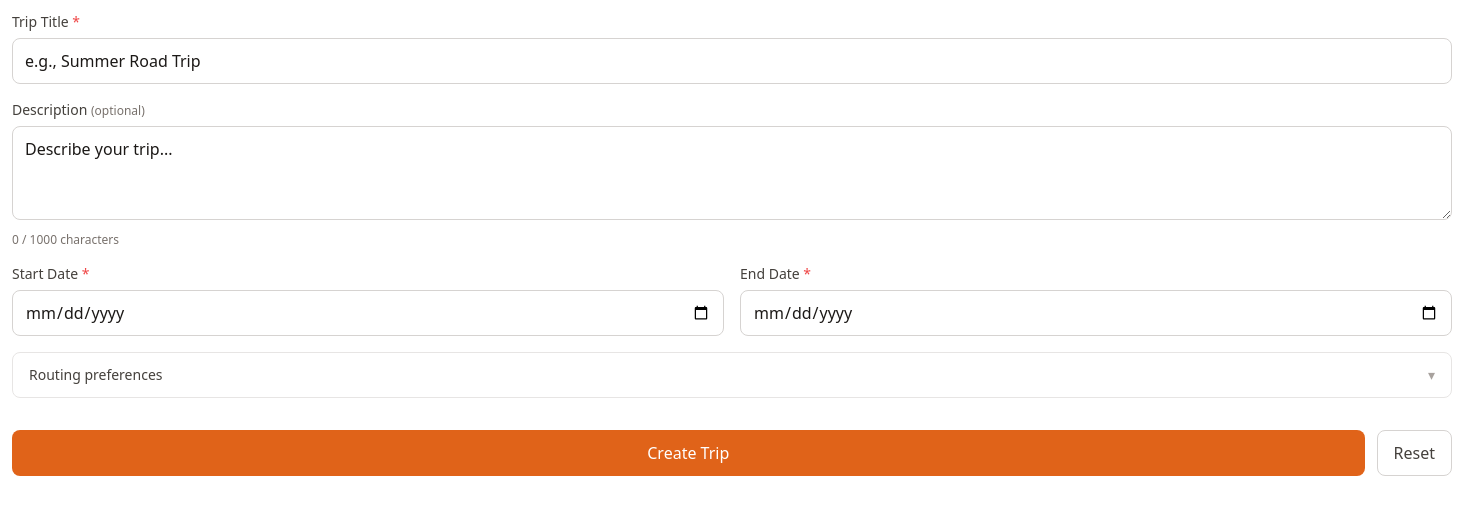
Test: TripForm Component › Client-side Validation › should show error when end date is before start date
The width and height of the screenshot is (1464, 519).
Type "Test Trip" into the field labelled "Trip Title *".
click(732, 61); type("Test Trip")  # box [12,38,1452,84]
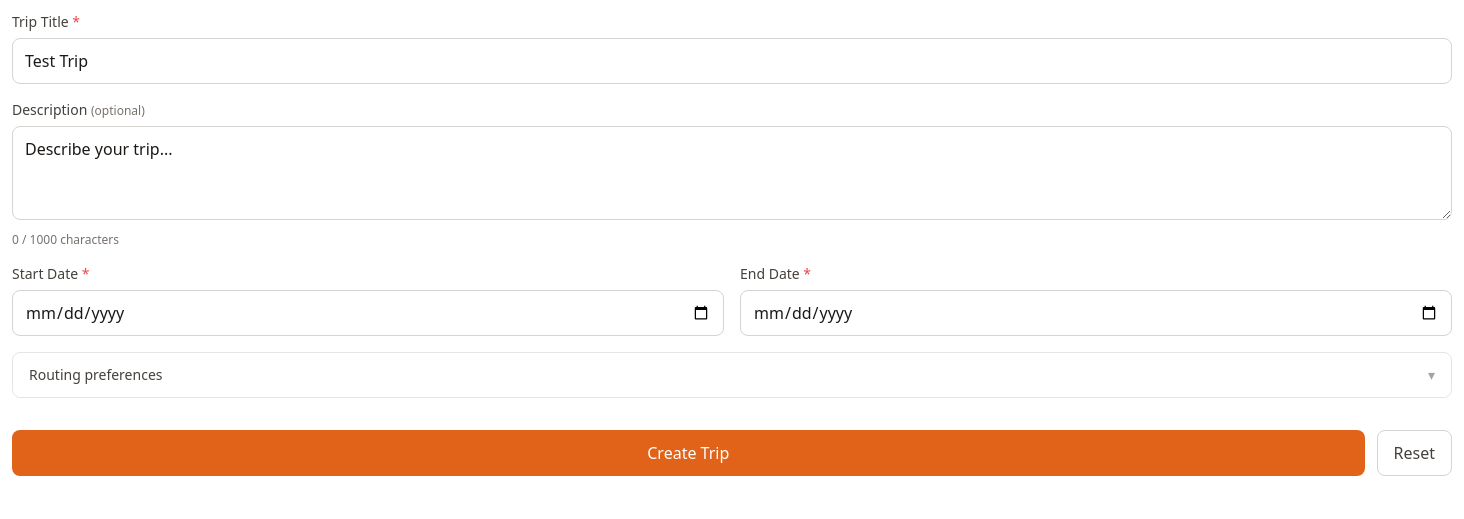
Type "2026-06-15" into the date field labelled "Start Date *".
click(368, 313); type("2026-06-15")  # box [12,290,724,336]
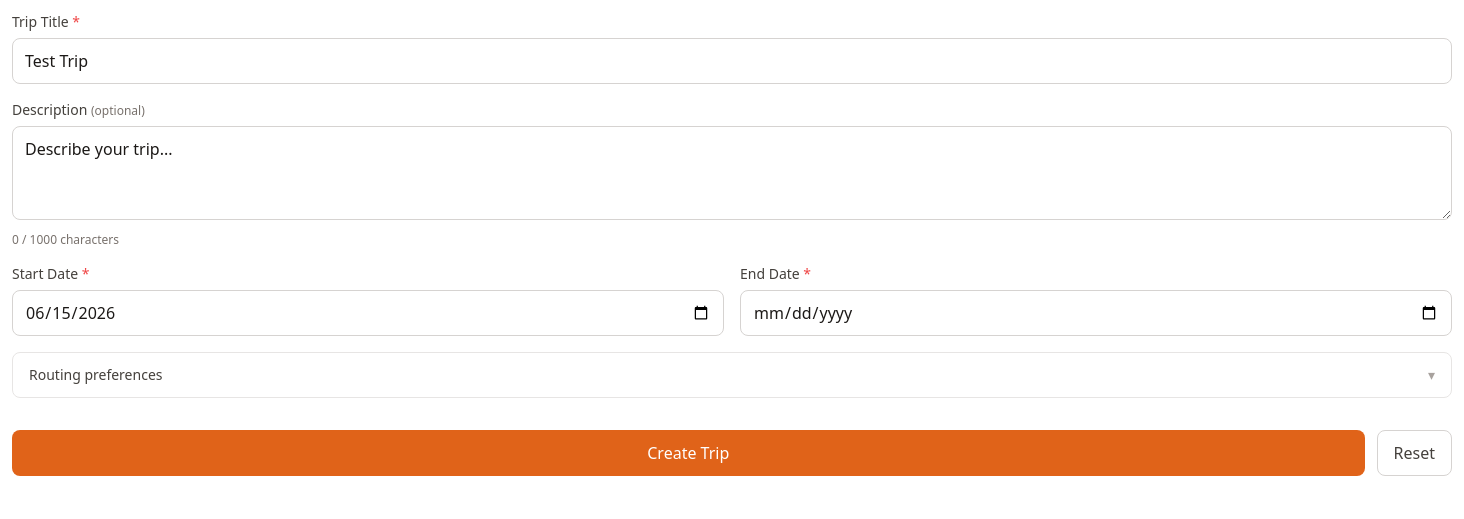
Type "2026-06-01" into the date field labelled "End Date *".
click(1096, 313); type("2026-06-01")  # box [740,290,1452,336]
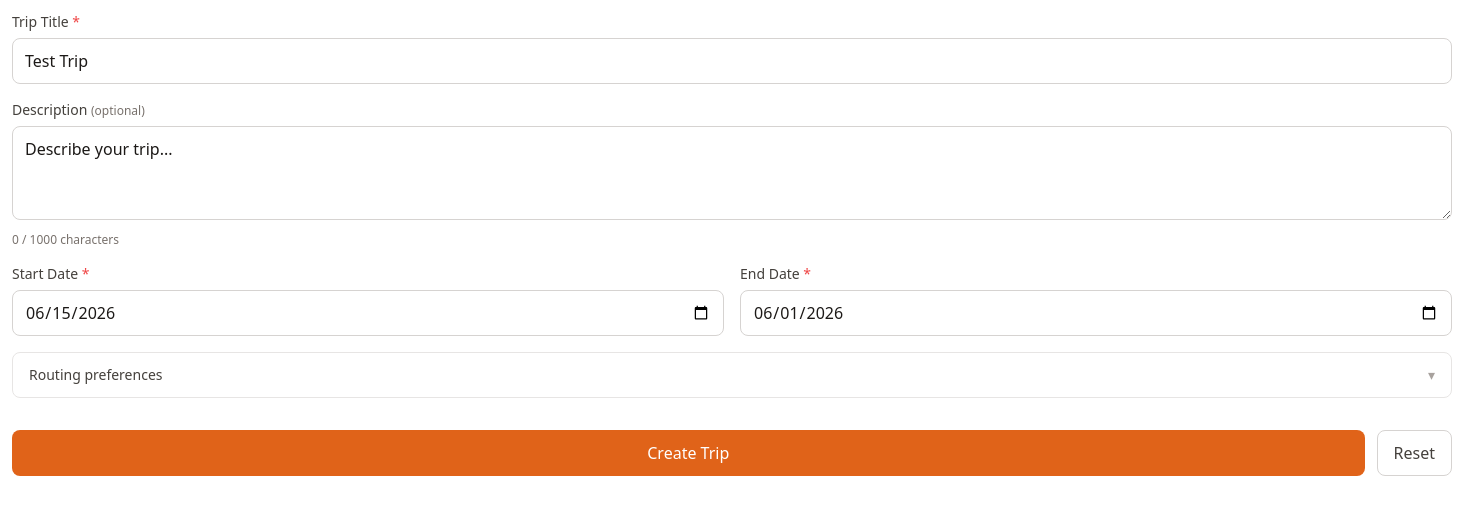
Click the button "Create Trip".
click(688, 453)  # box [12,430,1364,476]
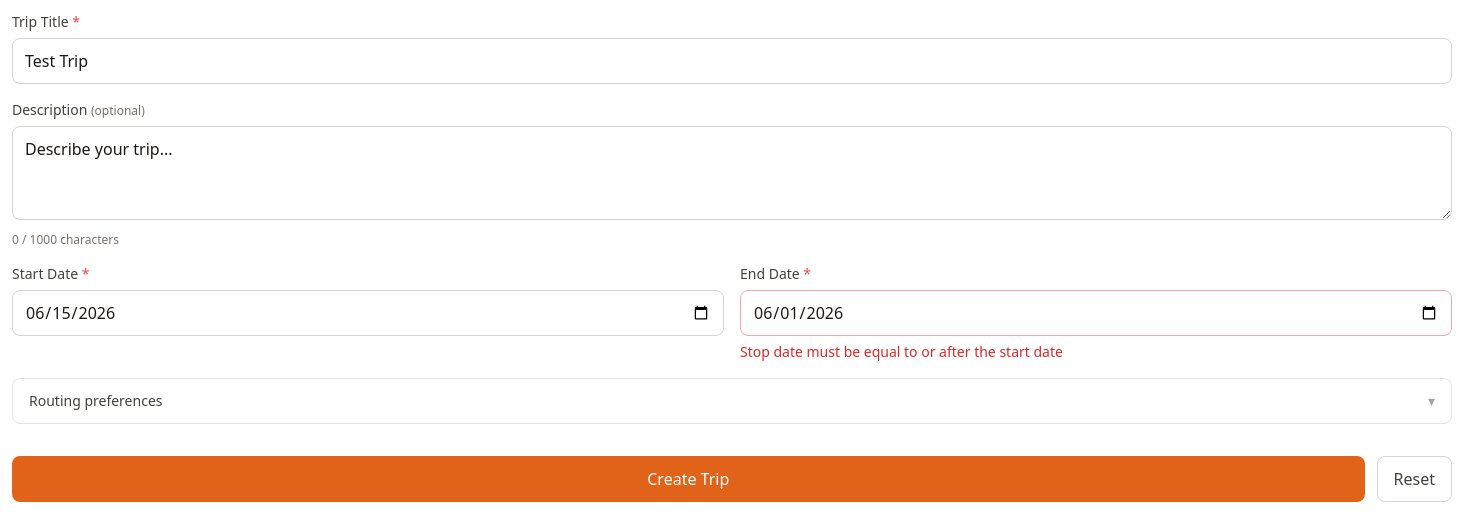
Now the text "Stop date must be equal to or after the start date" is shown, box [740,342,1063,361]
